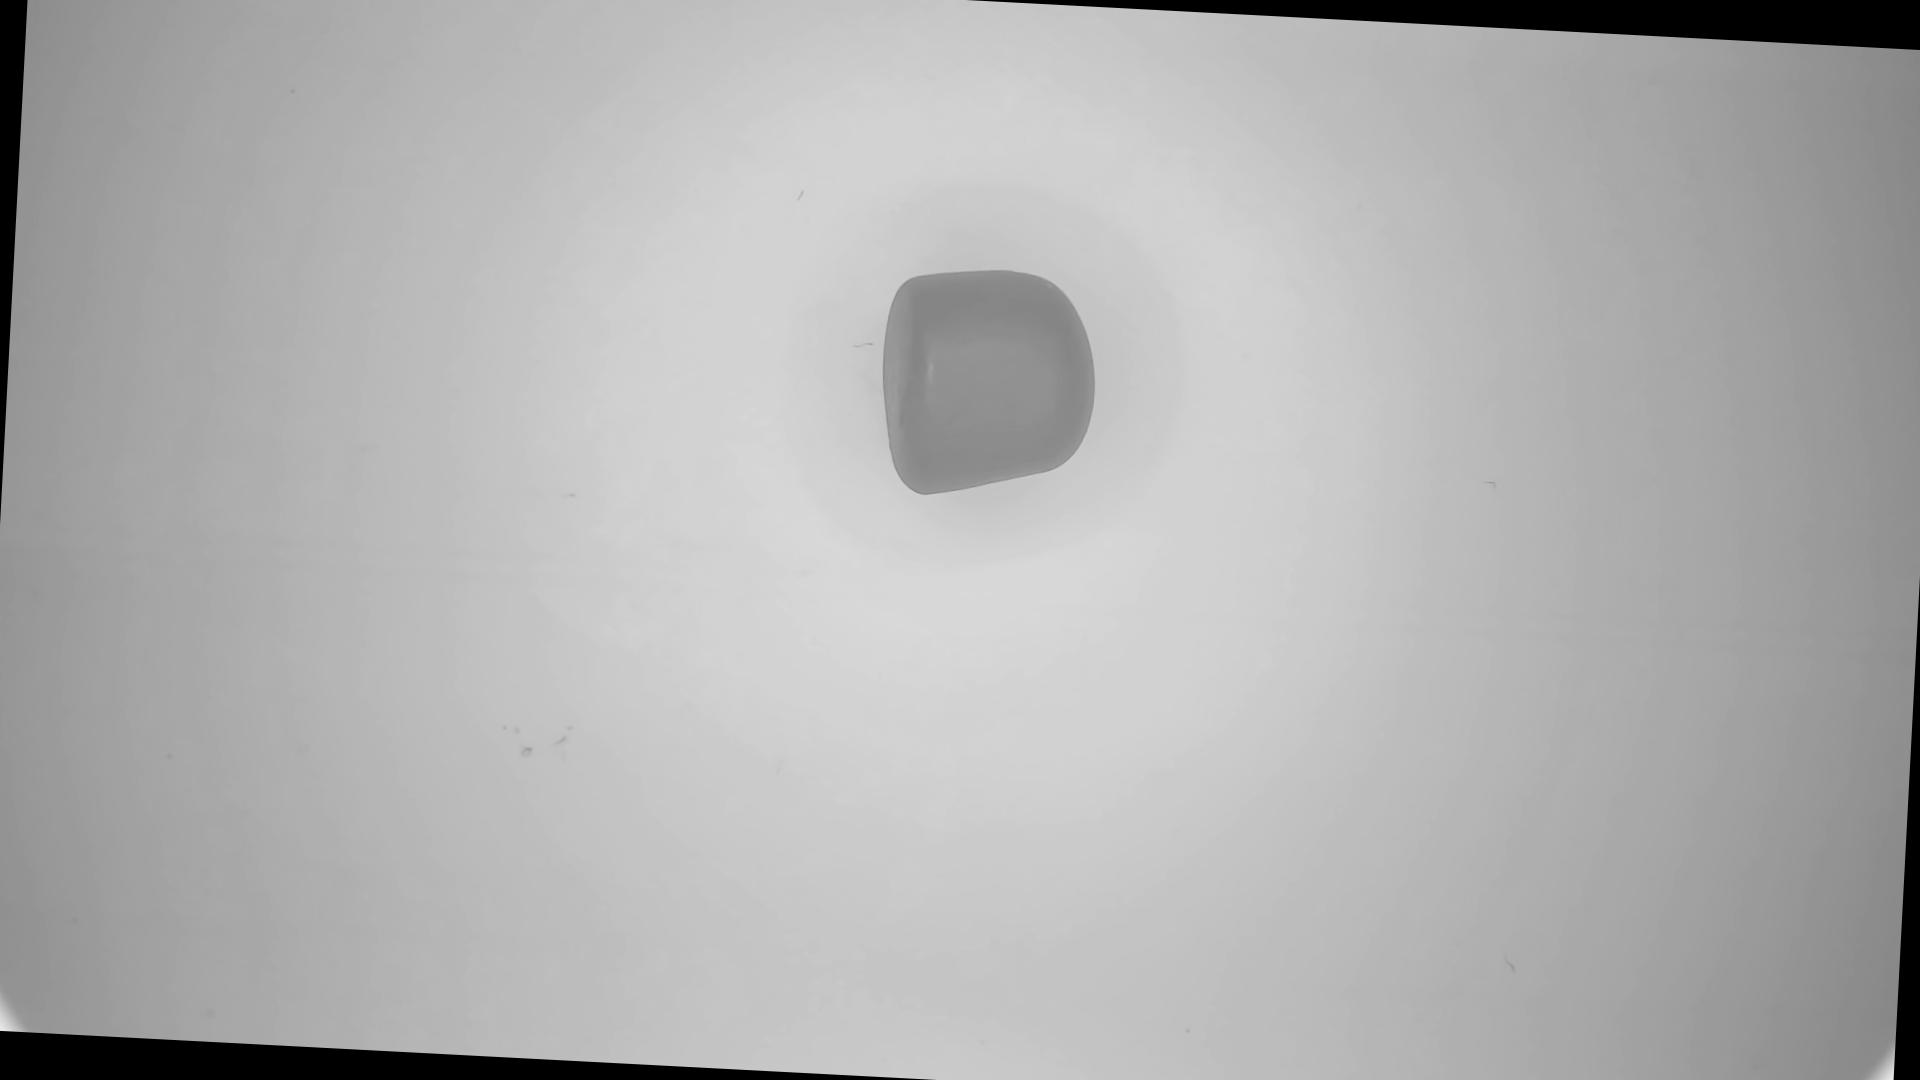normal: (877, 264, 1105, 505)
